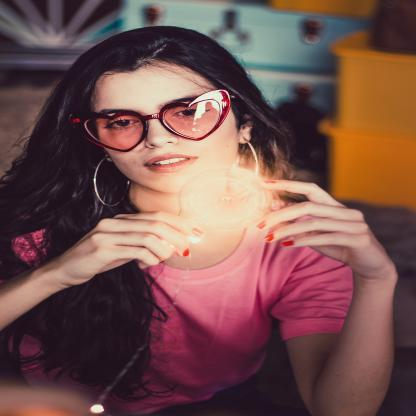Eye: (170, 105, 211, 120), (105, 116, 141, 131)
Mouth: (144, 153, 199, 174)
Nose: (145, 119, 180, 149)
